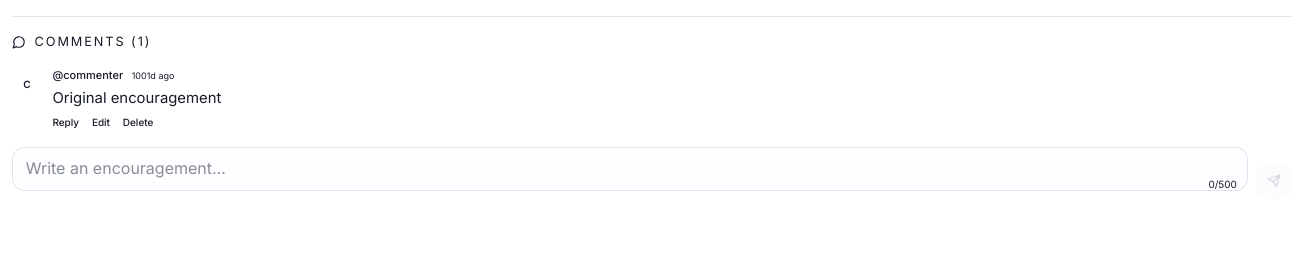
Test case: CommentSection › allows users to edit their own comments
Expected: the text "Original encouragement" is shown, [52,89,221,107]
Click the button "Edit".
click(101, 122)  # box [92,114,110,130]
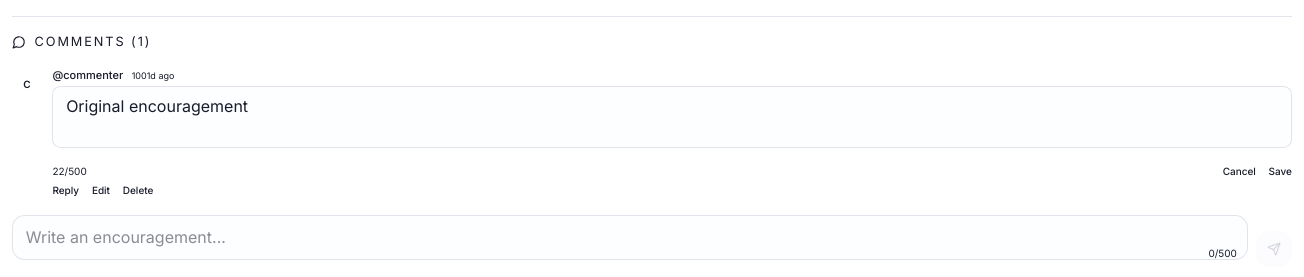
Replace the text in the text box showing "Original encouragement" with "Updated encouragement" at (672, 117), box [52,86,1292,148]
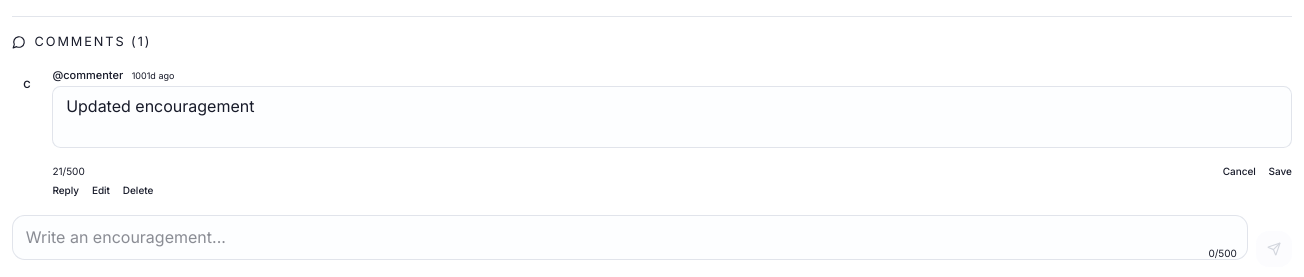
Click the button "Save".
click(1280, 171)  # box [1269,164,1292,179]
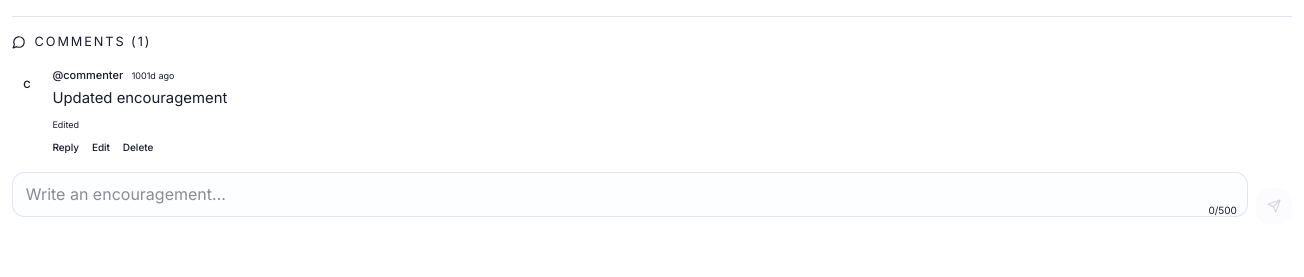
Expected: the text "Updated encouragement" is shown, [52,89,227,107]
Expected: the text "Edited" is shown, [52,119,79,130]
